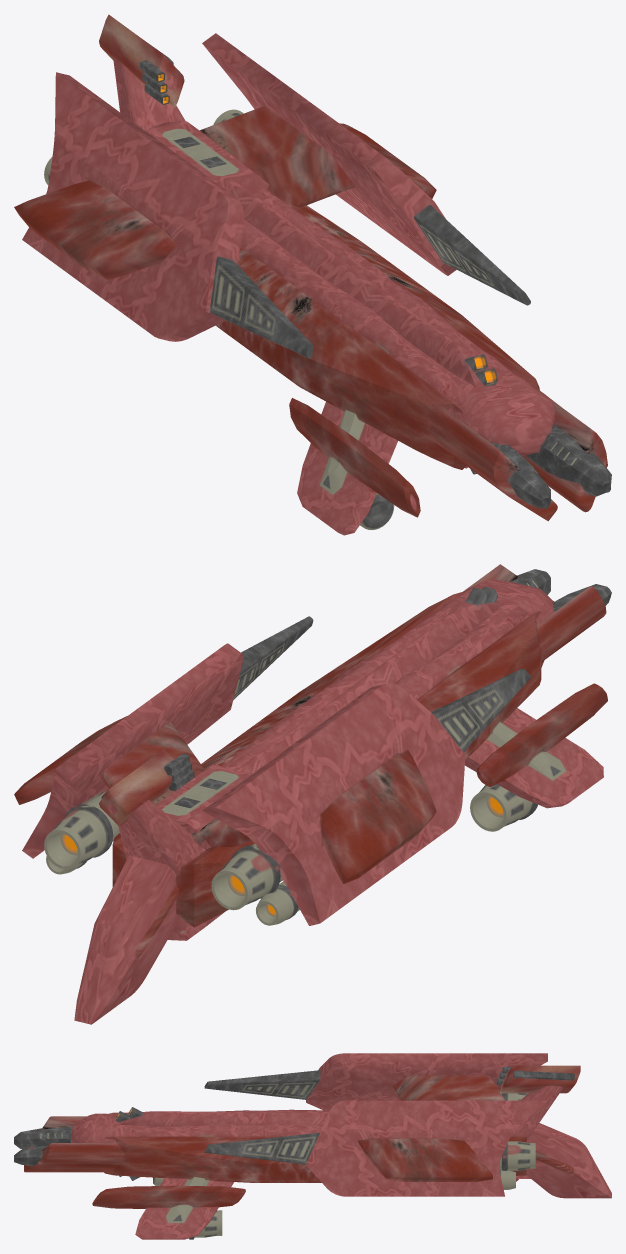
The model's file is copia.gltf.
The picture shows the model from 3 angles, top to bottom: view 1: azimuth 30°, elevation 25°; view 2: azimuth 150°, elevation 25°; view 3: azimuth 270°, elevation 25°; orthographic projection. The views are drawn at different scales.
Visible parts, largest first — view 1: WingLeft, WingRight, Body, Back, Bars, WingAttachmentRight, FrontWingRight, Front, FrontWingAttachments, FrontMetal, Vert.001, Cube (+5 smaller); view 2: WingLeft, WingRight, Body, Fin, WingAttachmentRight, Back, Bars, MainEngines, FrontWingRight, FrontWingAttachments, Top, Cube (+7 smaller); view 3: WingRight, WingLeft, Body, WingAttachmentLeft, Fin, FrontWingAttachments, FrontWingLeft, Back, Vert.002, Bars, Cube, Front (+6 smaller).
Boxes of the visible parts, bbox=[...] form: WingLeft: bbox=[22, 72, 313, 358]; WingRight: bbox=[199, 33, 530, 305]; Body: bbox=[215, 203, 540, 469]; Back: bbox=[146, 121, 504, 387]; Bars: bbox=[240, 190, 513, 468]; WingAttachmentRight: bbox=[14, 180, 177, 279]; FrontWingRight: bbox=[297, 401, 397, 535]; Front: bbox=[446, 365, 553, 456]; FrontWingAttachments: bbox=[289, 391, 607, 517]; FrontMetal: bbox=[490, 424, 611, 508]; Vert.001: bbox=[429, 411, 557, 521]; Cube: bbox=[99, 14, 184, 107]; WingLeft: bbox=[191, 668, 530, 925]; WingRight: bbox=[22, 616, 313, 858]; Body: bbox=[112, 592, 544, 927]; Fin: bbox=[74, 855, 180, 1024]; WingAttachmentRight: bbox=[320, 750, 436, 883]; Back: bbox=[156, 602, 504, 940]; Bars: bbox=[181, 602, 528, 920]; MainEngines: bbox=[44, 791, 282, 910]; FrontWingRight: bbox=[465, 708, 603, 808]; FrontWingAttachments: bbox=[476, 683, 607, 786]; Top: bbox=[118, 800, 201, 875]; Cube: bbox=[99, 749, 173, 826]; WingRight: bbox=[204, 1100, 547, 1196]; WingLeft: bbox=[204, 1053, 547, 1110]; Body: bbox=[100, 1112, 526, 1182]; WingAttachmentLeft: bbox=[358, 1138, 492, 1181]; Fin: bbox=[526, 1123, 611, 1198]; FrontWingAttachments: bbox=[92, 1185, 245, 1208]; FrontWingLeft: bbox=[135, 1177, 233, 1239]; Back: bbox=[118, 1111, 530, 1181]; Vert.002: bbox=[24, 1143, 124, 1172]; Bars: bbox=[115, 1109, 329, 1136]; Cube: bbox=[501, 1065, 580, 1093]; Front: bbox=[71, 1113, 150, 1142].
Bounding box in the file's own units: 8.4 × 5.72 × 21.
1 material, 1 textured.
